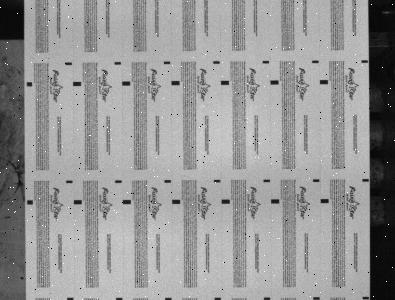backgroundclutter: (20, 277, 24, 280)
incorrect qblock: (26, 82, 32, 86), (27, 200, 33, 204)
qblock: (222, 199, 231, 204), (172, 199, 181, 204), (321, 198, 330, 203), (73, 81, 82, 86), (122, 81, 131, 86), (221, 80, 230, 85), (123, 199, 131, 204), (73, 200, 82, 204), (271, 199, 280, 203), (320, 80, 329, 84), (271, 80, 279, 84), (172, 81, 180, 85)
smallqblock: (263, 296, 270, 300), (314, 296, 321, 300), (213, 60, 220, 64), (165, 179, 172, 183), (363, 178, 370, 182), (312, 60, 320, 63), (313, 179, 321, 182), (116, 297, 123, 300), (165, 297, 172, 300), (65, 62, 72, 65), (363, 296, 370, 299), (214, 297, 221, 300), (114, 62, 121, 65), (263, 60, 270, 63), (164, 61, 171, 64), (66, 180, 73, 183), (115, 180, 122, 183), (264, 179, 271, 182), (214, 179, 221, 182), (362, 60, 369, 63), (67, 297, 73, 300)
